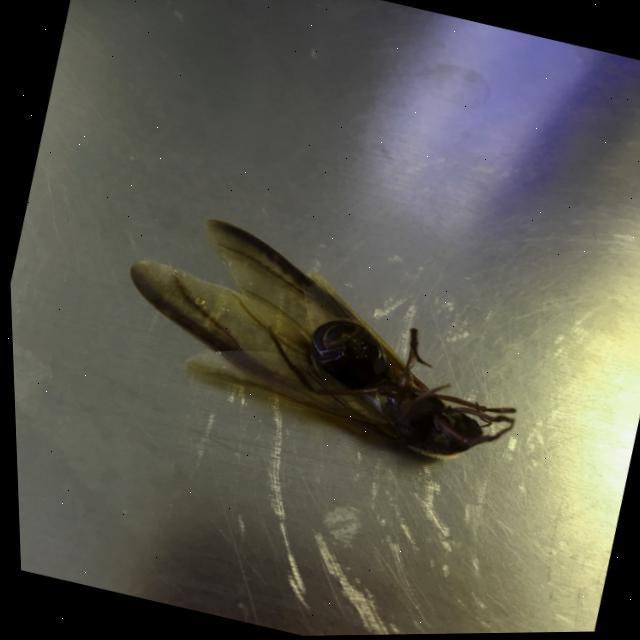Dead-Female-Alate: (97, 198, 544, 480)
